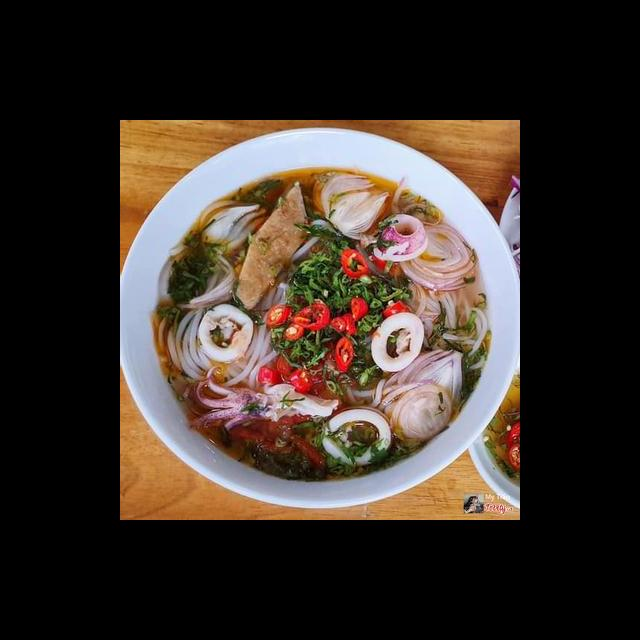bun: (155, 264, 299, 395), (399, 274, 494, 374), (345, 362, 425, 413)
muc: (181, 364, 344, 440), (314, 403, 397, 468), (195, 299, 260, 366), (367, 308, 428, 375), (367, 208, 432, 264)
